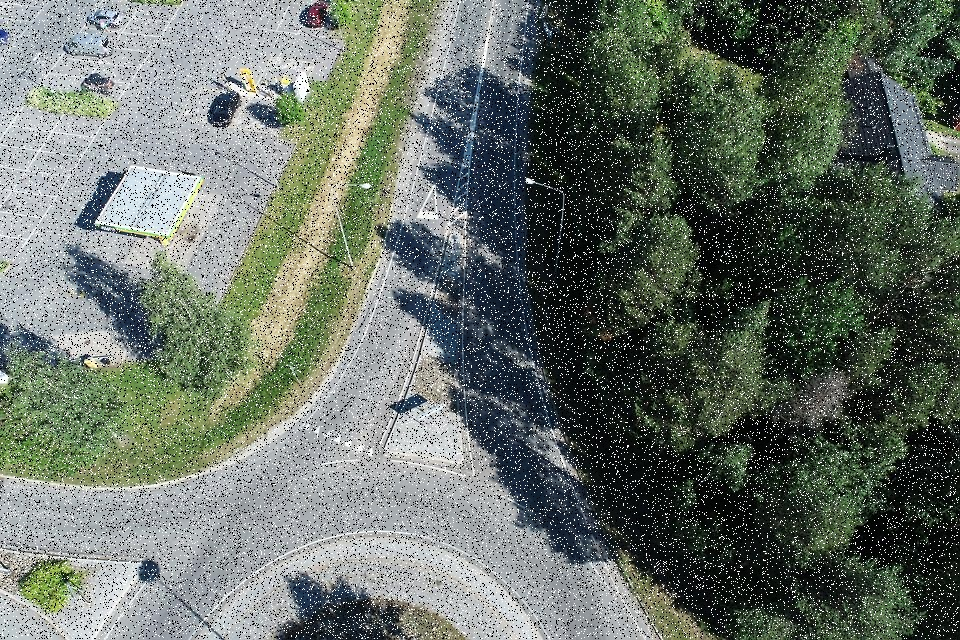roundabout: (35, 434, 713, 640)
